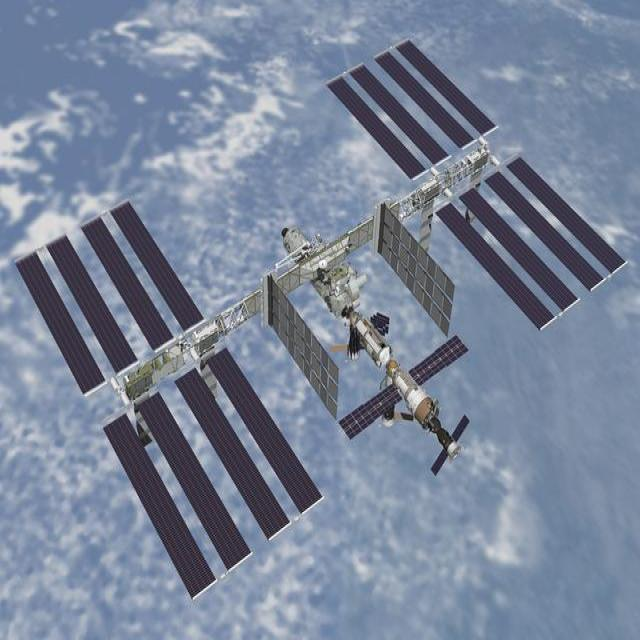satellite: (16, 40, 624, 598)
